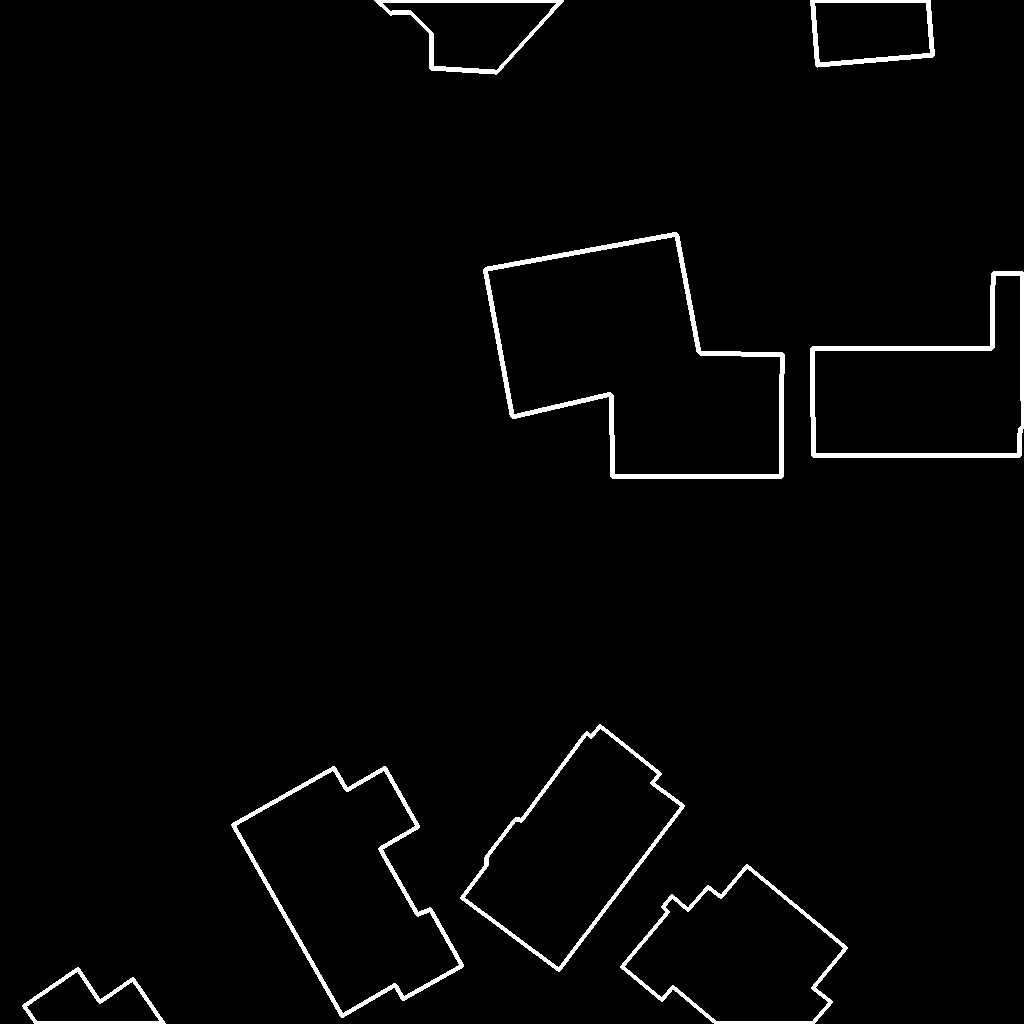building: (485, 234, 783, 477), (233, 768, 463, 1017), (462, 726, 684, 971), (812, 273, 1024, 456), (622, 866, 847, 1024), (376, 0, 564, 73), (812, 0, 934, 66), (24, 969, 165, 1024)
